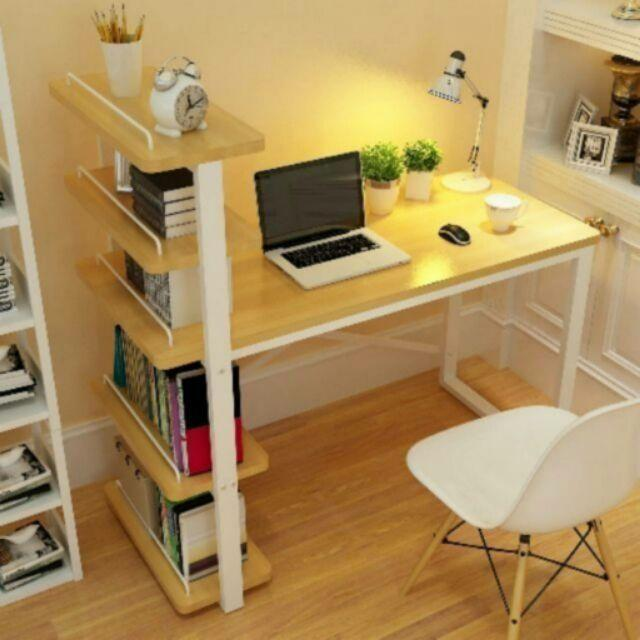table: (85, 147, 630, 365)
